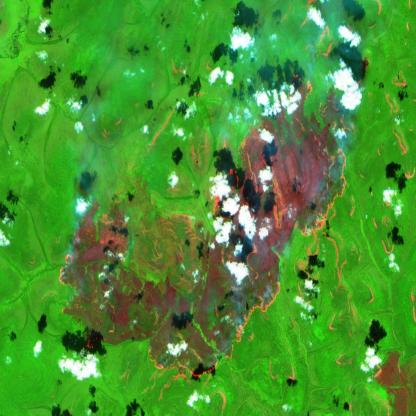fire: (143, 62, 360, 391), (51, 181, 130, 378)
